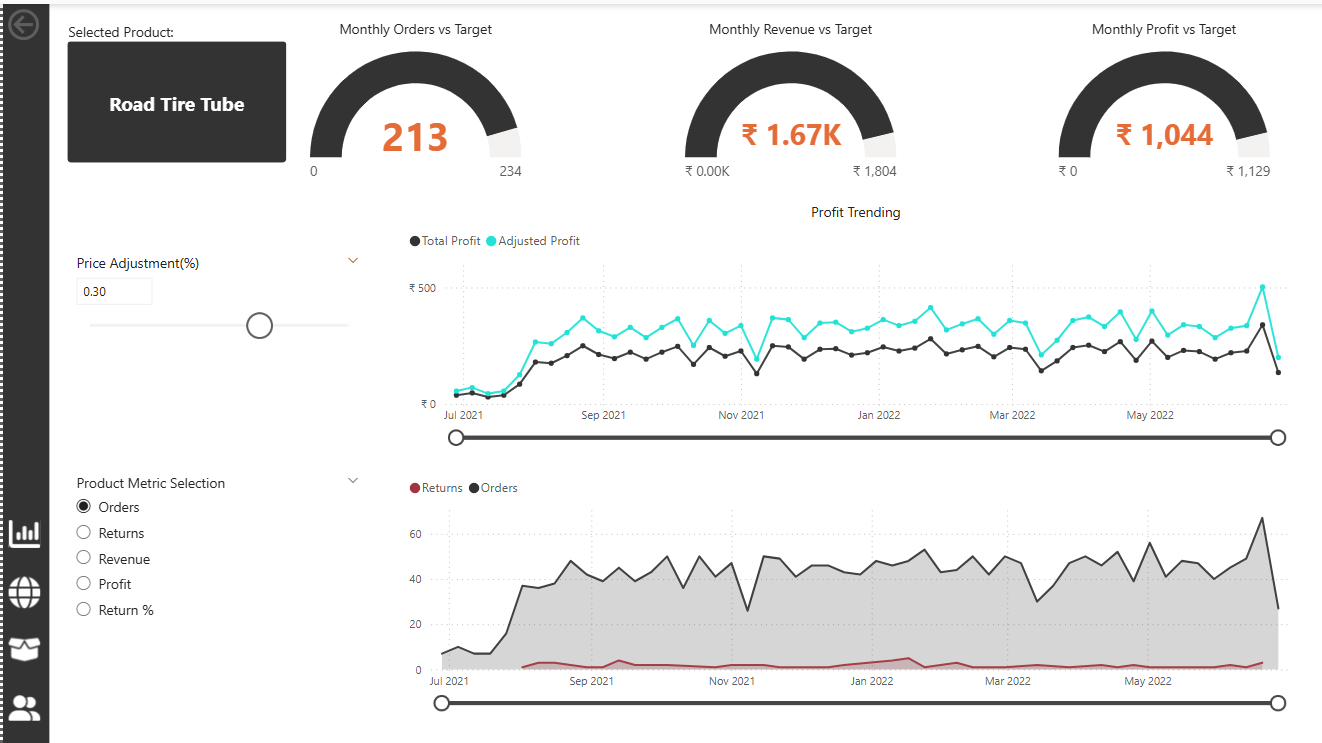

This screenshot's page, from the dashboard's own definition file:
{"tool":"powerbi","page":{"name":"Product Detail","canvas":[1280,720],"ordinal":2},"visuals":[{"type":"shape","box":[0,0,45,720.6],"z":0},{"type":"gauge","title":"Monthly Orders vs Target","fields":{"Y":["Measure Table.Total Orders"],"MaxValue":["Measure Table.Orders Target"]},"box":[293.1,14.6,215.4,174.9],"z":1000},{"type":"actionButton","box":[1.2,607.8,45.3,38.9],"z":1000,"group":"g1"},{"type":"gauge","title":"Monthly Revenue vs Target","fields":{"Y":["Measure Table.Total Revenue"],"MaxValue":["Measure Table.Revenue Target"]},"box":[655.8,14.6,215.4,174.9],"z":2000},{"type":"actionButton","box":[1.2,495.5,45.3,38.9],"z":2000,"group":"g1"},{"type":"gauge","title":"Monthly Profit vs Target","fields":{"Y":["Measure Table.Total Profit"],"MaxValue":["Measure Table.Profit Target"]},"box":[1018.5,14.6,215.4,174.9],"z":3000},{"type":"actionButton","box":[1.2,663.9,45.3,38.9],"z":3000,"group":"g1"},{"type":"lineChart","title":"Profit Trending","fields":{"Category":["Calendar Lookup.Date Hierarchy.Start of Year","Calendar Lookup.Date Hierarchy.Start of Month","Calendar Lookup.Date Hierarchy.Start of Week","Calendar Lookup.Date Hierarchy.Date"],"Y":["Measure Table.Total Profit","Measure Table.Adjusted Profit"]},"box":[388.6,192.7,877.6,239.6],"z":4000},{"type":"actionButton","box":[1.2,551.6,45.3,38.9],"z":4000,"group":"g1"},{"type":"areaChart","title":"Returns Trending","fields":{"Y":["Measure Table.Total Returns","Measure Table.Total Orders"],"Category":["Calendar Lookup.Date Hierarchy.Start of Year","Calendar Lookup.Date Hierarchy.Start of Month","Calendar Lookup.Date Hierarchy.Start of Week","Calendar Lookup.Date Hierarchy.Date"]},"box":[388.6,450.1,877.6,239.6],"z":5000},{"type":"actionButton","box":[0,0,100,40],"z":6000},{"type":"cardVisual","fields":{"Data":["Min(Product Lookup.ProductName)"]},"box":[45.3,19.4,247.7,152.2],"z":7000},{"type":"textbox","box":[58.3,11.3,131.2,40.5],"z":8000},{"type":"group","id":"g1","title":"Navigation Buttons","box":[1.2,495.5,45.3,207.3],"z":9000},{"type":"slicer","fields":{"Values":["Price Adjustment(%).Price Adjustment(%)"]},"box":[58.3,236.4,299.6,150.6],"z":10000},{"type":"slicer","fields":{"Values":["Product Metric Selection.Product Metric Selection"]},"box":[58.3,450.1,299.6,239.6],"z":11000}]}

Visuals, with their boxes on the page's 1280x720 design canvas (x1, y1, x2, y2). These are canvas units, not pixel positions in the 1322x743 screenshot, which may show the page scaled, cropped or inside an application window:
shape: region(0, 0, 45, 721)
"Monthly Orders vs Target" gauge: region(293, 15, 508, 190)
actionButton: region(1, 608, 46, 647)
"Monthly Revenue vs Target" gauge: region(656, 15, 871, 190)
actionButton: region(1, 496, 46, 534)
"Monthly Profit vs Target" gauge: region(1018, 15, 1234, 190)
actionButton: region(1, 664, 46, 703)
"Profit Trending" lineChart: region(389, 193, 1266, 432)
actionButton: region(1, 552, 46, 590)
"Returns Trending" areaChart: region(389, 450, 1266, 690)
actionButton: region(0, 0, 100, 40)
cardVisual - Min(Product Lookup.ProductName): region(45, 19, 293, 172)
textbox: region(58, 11, 190, 52)
"Navigation Buttons" group: region(1, 496, 46, 703)
slicer - Price Adjustment(%).Price Adjustment(%): region(58, 236, 358, 387)
slicer - Product Metric Selection.Product Metric Selection: region(58, 450, 358, 690)
